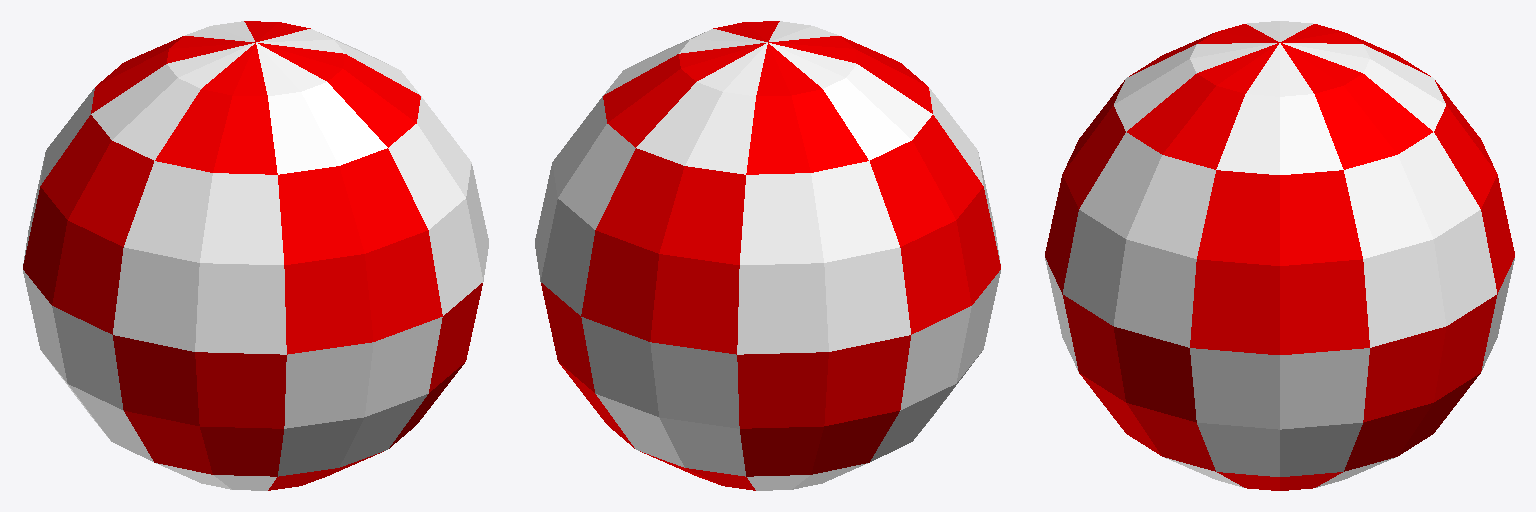
Rendered from ball-amiga-2.obj.
3 renders of one model, left to right at view 1: azimuth 30°, elevation 25°; view 2: azimuth 150°, elevation 25°; view 3: azimuth 270°, elevation 25°, orthographic.
Parts seen in each view (by area): view 1: Sphere_Sphere.002; view 2: Sphere_Sphere.002; view 3: Sphere_Sphere.002.
Part boxes in pixels (x1,y1,x2,y2): Sphere_Sphere.002: (23, 21, 488, 490); Sphere_Sphere.002: (535, 21, 1000, 490); Sphere_Sphere.002: (1045, 21, 1514, 490).
Size of the model in its own units: 2 by 2 by 2.